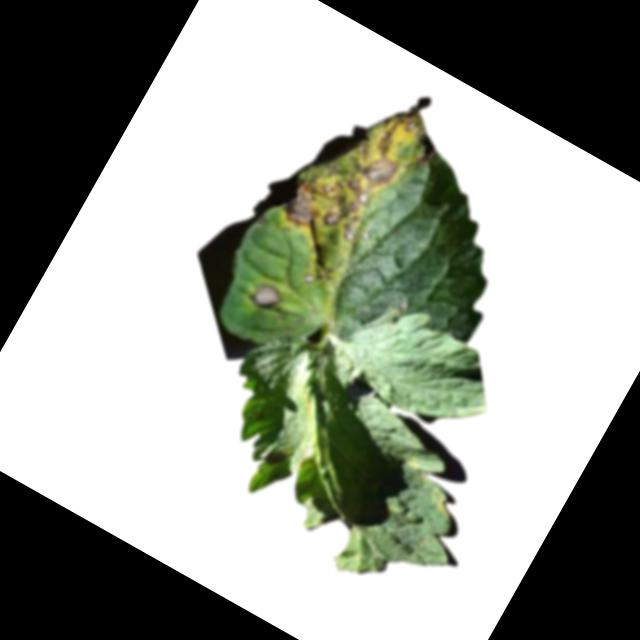Early_blight: (277, 76, 450, 270), (247, 278, 286, 314), (301, 255, 336, 291), (262, 445, 288, 472)
